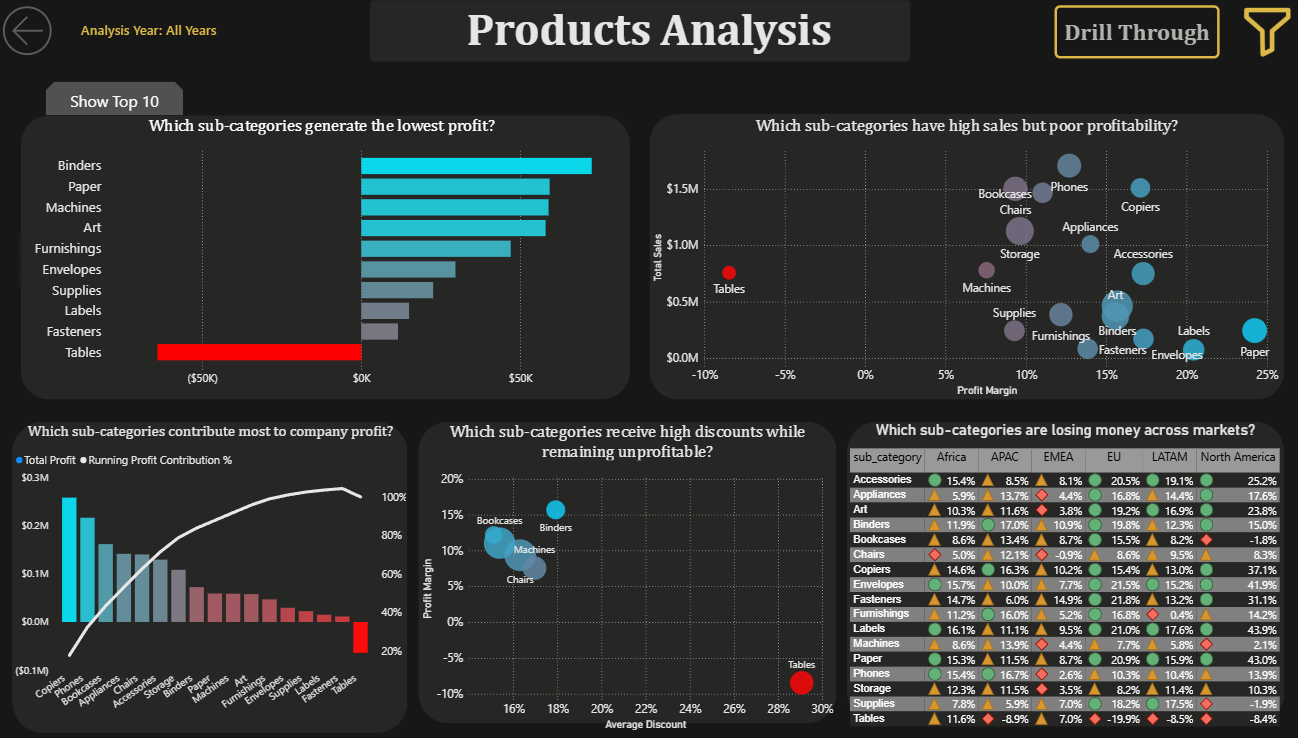

Layout of this report page (visuals, bound fields, positions):
{"tool":"powerbi","page":{"name":"Product Page","canvas":[2100,1200],"ordinal":2},"visuals":[{"type":"shape","box":[599.2,0,870.6,101.2],"z":0},{"type":"shape","box":[39.2,187.3,980.1,457.4],"z":1000},{"type":"shape","box":[1049.8,185.1,1021.5,459.6],"z":2000},{"type":"shape","box":[1367.8,679.5,703.5,485.7],"z":3000},{"type":"shape","box":[677.5,679.5,673,485.7],"z":4000},{"type":"shape","box":[24,679.5,636.3,501.2],"z":5000},{"type":"textbox","box":[714.8,0,670,101.8],"z":6000},{"type":"actionButton","box":[0,0,97.3,102],"z":7000},{"type":"barChart","title":"Which sub-categories generate the lowest profit?","fields":{"Category":["public product_dim.sub_category"],"Y":["_Measures.Total Profit"]},"box":[23.7,187.4,996.4,457.9],"z":8000},{"type":"scatterChart","title":"Which sub-categories have high sales but poor profitability?","fields":{"Category":["public product_dim.sub_category"],"Size":["_Measures.Total Quantity"],"X":["_Measures.Profit Margin"],"Y":["_Measures.Total Sales"]},"box":[1049.8,187.3,1021.5,457.4],"z":11000},{"type":"lineStackedColumnComboChart","title":"Which sub-categories contribute most to company profit?","fields":{"Category":["public product_dim.sub_category"],"Y":["_Measures.Total Profit"],"Y2":["_Measures.Running Profit Contribution %"]},"box":[24,679.5,638.4,486.6],"z":12000},{"type":"scatterChart","title":"Which sub-categories receive high discounts while remaining unprofitable?","fields":{"Category":["public product_dim.sub_category"],"Size":["_Measures.Total Sales"],"X":["_Measures.Average Discount"],"Y":["_Measures.Profit Margin"]},"box":[678.6,679.5,673,500.9],"z":13000},{"type":"pivotTable","title":"Which sub-categories are losing money across markets?","fields":{"Columns":["public dim_location.market_region"],"Rows":["public product_dim.sub_category"],"Values":["_Measures.Profit Margin"]},"box":[1367.8,679.5,703.5,500.9],"z":14000},{"type":"image","box":[1985.7,0,113.9,102],"z":15000},{"type":"actionButton","title":"Top Button","box":[78.4,133.3,221.2,54.3],"z":17000},{"type":"actionButton","box":[1701,9.5,265.7,85.4],"z":18000},{"type":"cardVisual","fields":{"Data":["_Measures.Selected Year"]},"box":[96.5,8,295.6,82.4],"z":19000}]}

Visuals, with their boxes in screenshot pixels (x1, y1, x2, y2), scaled from the page's 2100x1200 canvas onto the 1298x738 screenshot:
shape: pyautogui.locateOnScreen(370, 0, 908, 62)
shape: pyautogui.locateOnScreen(24, 115, 630, 396)
shape: pyautogui.locateOnScreen(649, 114, 1280, 396)
shape: pyautogui.locateOnScreen(845, 418, 1280, 717)
shape: pyautogui.locateOnScreen(419, 418, 835, 717)
shape: pyautogui.locateOnScreen(15, 418, 408, 726)
textbox: pyautogui.locateOnScreen(442, 0, 856, 63)
actionButton: pyautogui.locateOnScreen(0, 0, 60, 63)
"Which sub-categories generate the lowest profit?" barChart: pyautogui.locateOnScreen(15, 115, 631, 397)
"Which sub-categories have high sales but poor profitability?" scatterChart: pyautogui.locateOnScreen(649, 115, 1280, 396)
"Which sub-categories contribute most to company profit?" lineStackedColumnComboChart: pyautogui.locateOnScreen(15, 418, 409, 717)
"Which sub-categories receive high discounts while remaining unprofitable?" scatterChart: pyautogui.locateOnScreen(419, 418, 835, 726)
"Which sub-categories are losing money across markets?" pivotTable: pyautogui.locateOnScreen(845, 418, 1280, 726)
image: pyautogui.locateOnScreen(1227, 0, 1297, 63)
"Top Button" actionButton: pyautogui.locateOnScreen(48, 82, 185, 115)
actionButton: pyautogui.locateOnScreen(1051, 6, 1216, 58)
cardVisual - _Measures.Selected Year: pyautogui.locateOnScreen(60, 5, 242, 56)
